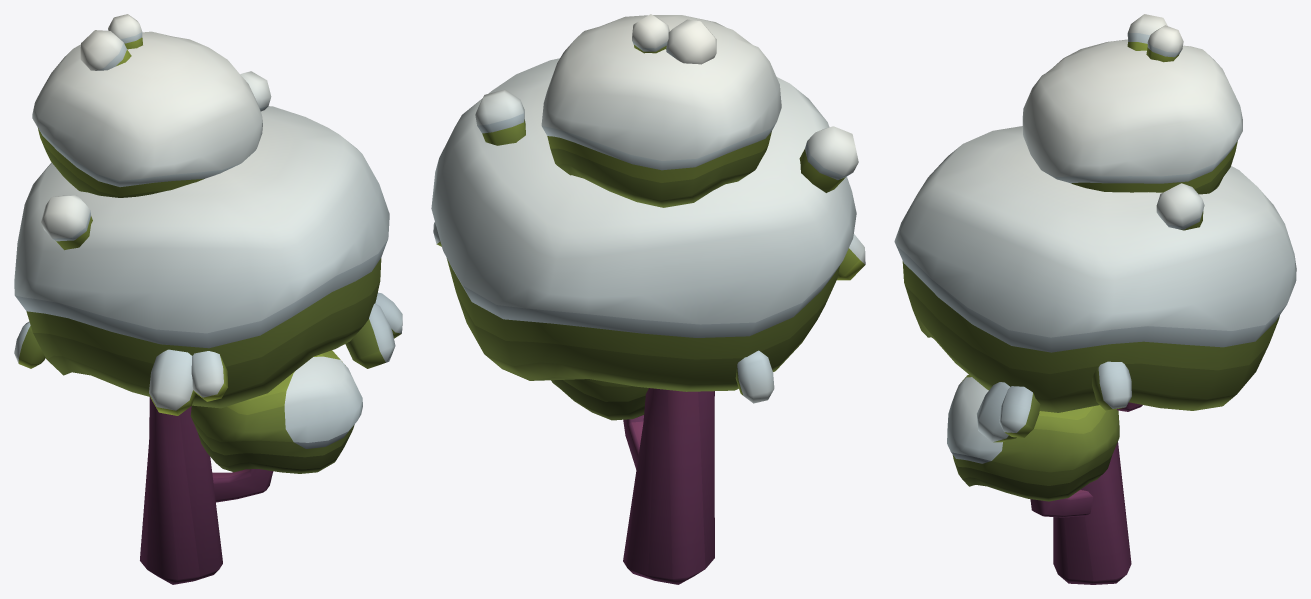
File: grassland_tree_col1_7_snow.fbx
The picture shows the model from 3 angles, left to right: view 1: azimuth 30°, elevation 25°; view 2: azimuth 150°, elevation 25°; view 3: azimuth 270°, elevation 25°; orthographic projection. The views are drawn at different scales.
Parts seen in each view (by area): view 1: grassland_tree_col1_7_snow; view 2: grassland_tree_col1_7_snow; view 3: grassland_tree_col1_7_snow.
Boxes of the visible parts, bbox=[...] form: grassland_tree_col1_7_snow: bbox=[14, 14, 402, 584]; grassland_tree_col1_7_snow: bbox=[431, 14, 865, 584]; grassland_tree_col1_7_snow: bbox=[894, 14, 1296, 584].
Bounding box in the file's own units: 432 × 621 × 422.
